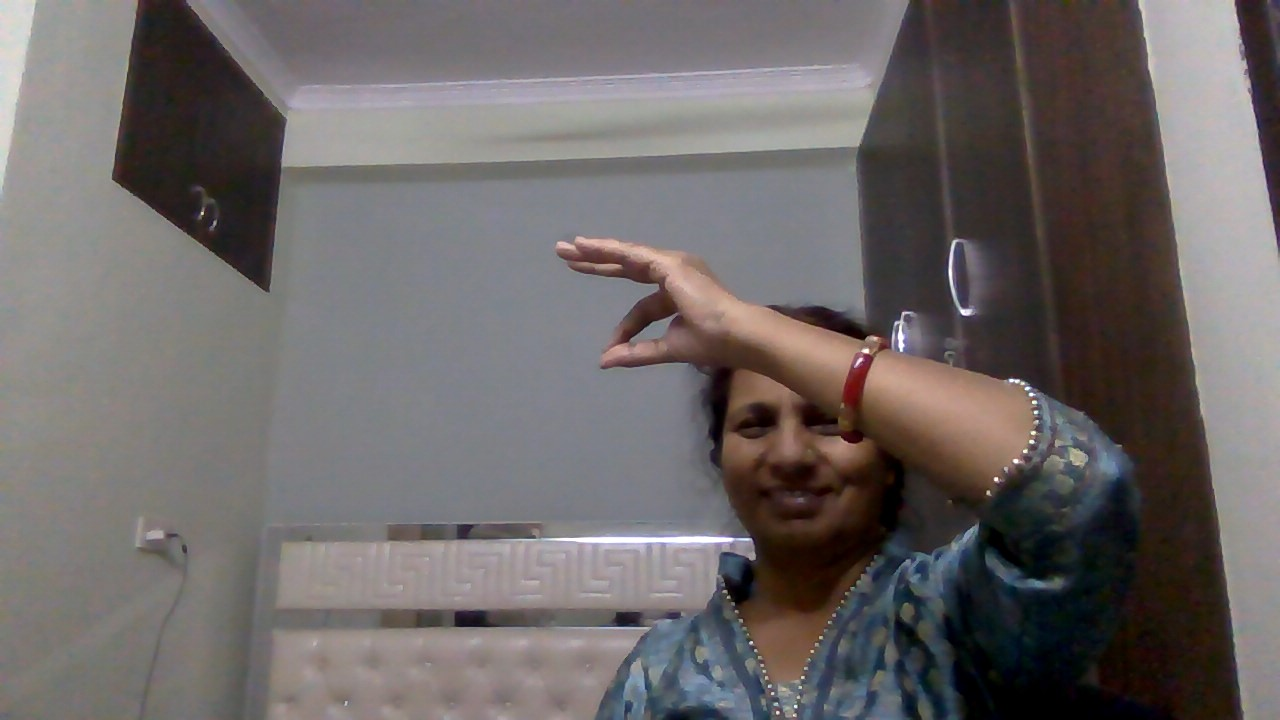Copy: (545, 223, 758, 386)
